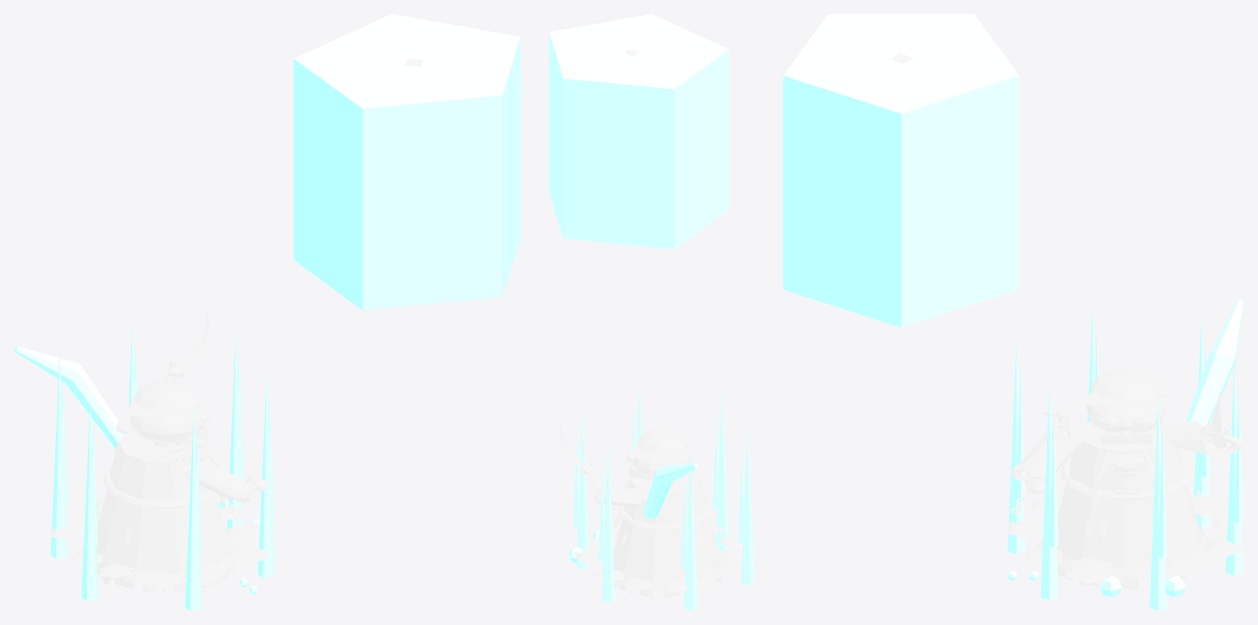
The model's file is maitre-cimetiere-v5-leger.glb.
The picture shows the model from 3 angles, left to right: view 1: azimuth 30°, elevation 25°; view 2: azimuth 150°, elevation 25°; view 3: azimuth 270°, elevation 25°; orthographic projection. The views are drawn at different scales.
Visible parts, largest first — view 1: maitre_cimetiere_lanterne_lueur, maitre_cimetiere_corps.001, maitre_cimetiere_feux_lueur, maitre_cimetiere_lumieres; view 2: maitre_cimetiere_lanterne_lueur, maitre_cimetiere_corps.001, maitre_cimetiere_feux_lueur, maitre_cimetiere_lumieres; view 3: maitre_cimetiere_lanterne_lueur, maitre_cimetiere_corps.001, maitre_cimetiere_feux_lueur, maitre_cimetiere_lumieres.
Boxes of the visible parts, x1,y1,x2,y2 form: maitre_cimetiere_lanterne_lueur: [293, 14, 520, 310]; maitre_cimetiere_corps.001: [51, 309, 278, 595]; maitre_cimetiere_feux_lueur: [50, 323, 274, 610]; maitre_cimetiere_lumieres: [14, 346, 260, 594]; maitre_cimetiere_lanterne_lueur: [549, 14, 729, 249]; maitre_cimetiere_corps.001: [559, 423, 742, 601]; maitre_cimetiere_feux_lueur: [573, 381, 754, 610]; maitre_cimetiere_lumieres: [569, 463, 698, 562]; maitre_cimetiere_lanterne_lueur: [783, 14, 1019, 327]; maitre_cimetiere_corps.001: [1007, 368, 1243, 597]; maitre_cimetiere_feux_lueur: [1007, 303, 1243, 610]; maitre_cimetiere_lumieres: [1007, 299, 1243, 596].
Bounding box in the file's own units: 3.6 × 5.4 × 3.9.
